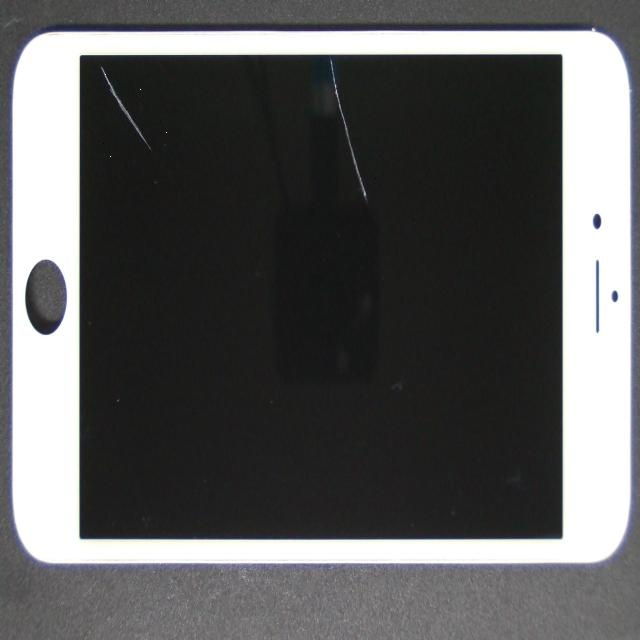scratch: (134, 0, 499, 160), (57, 80, 176, 240)
